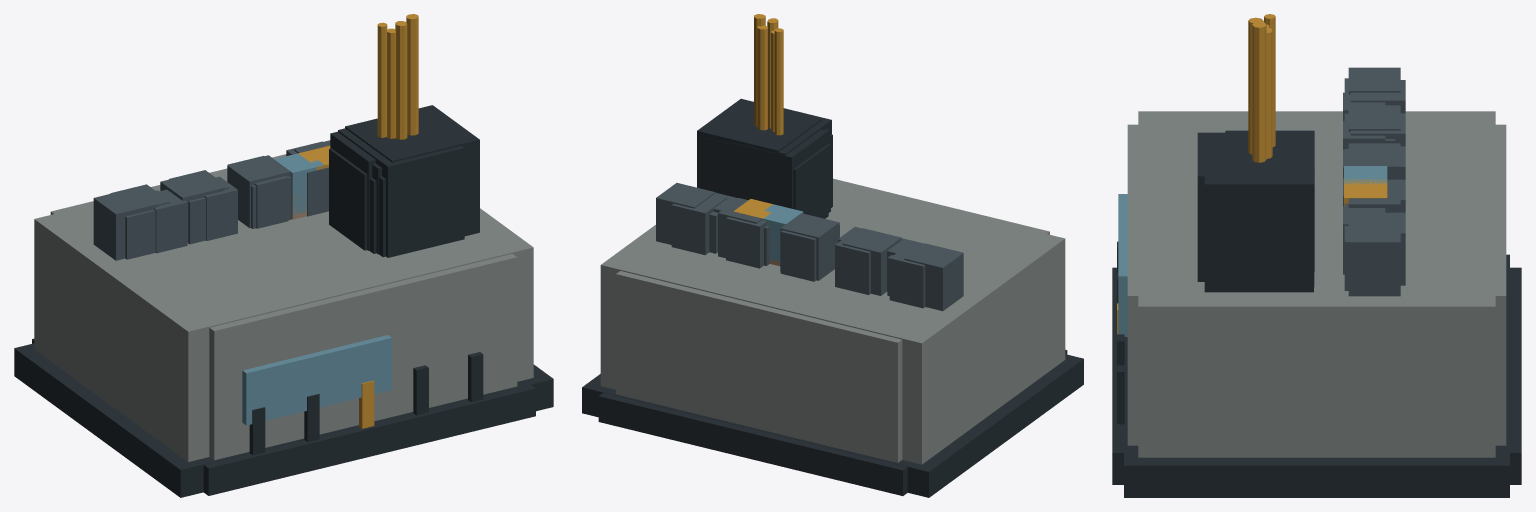
File: facilities.564cfe7ed80f.glb
The picture shows the model from 3 angles, left to right: view 1: azimuth 30°, elevation 25°; view 2: azimuth 150°, elevation 25°; view 3: azimuth 270°, elevation 25°; orthographic projection. The views are drawn at different scales.
Parts seen in each view (by area): view 1: security-centre__near, chip-fabrication__near, gas-generation__near, construction-shell__near, facility-large__near, headquarters-small__near, research-lab__near, training-centre__near, grid-substation__near, headquarters__near, headquarters-medium__near, training-centre__far (+8 smaller); view 2: security-centre__near, gas-generation__near, facility-large__near, construction-shell__near, headquarters-small__near, chip-fabrication__near, research-lab__near, grid-substation__near, training-centre__near, headquarters__near, headquarters-medium__near, grid-substation__far (+4 smaller); view 3: gas-generation__near, security-centre__near, research-lab__near, construction-shell__near, chip-fabrication__near, facility-large__near, headquarters-small__near, training-centre__near, headquarters__near, solar-field__near, headquarters-medium__near, grid-substation__near.
Part boxes in pixels (x1,y1,x2,y2): security-centre__near: (14, 14, 553, 497); chip-fabrication__near: (32, 38, 535, 495); gas-generation__near: (14, 31, 553, 497); construction-shell__near: (32, 21, 535, 493); facility-large__near: (203, 100, 535, 495); headquarters-small__near: (203, 89, 534, 494); research-lab__near: (14, 80, 552, 496); training-centre__near: (154, 22, 387, 246); grid-substation__near: (155, 38, 386, 251); headquarters__near: (125, 185, 291, 258); headquarters-medium__near: (125, 21, 405, 253); training-centre__far: (329, 148, 367, 235); security-centre__near: (582, 14, 1083, 497); gas-generation__near: (582, 29, 1083, 497); facility-large__near: (598, 92, 925, 495); construction-shell__near: (598, 18, 1067, 493); headquarters-small__near: (598, 81, 925, 494); chip-fabrication__near: (598, 34, 925, 495); research-lab__near: (582, 79, 1083, 497); grid-substation__near: (730, 43, 887, 289); training-centre__near: (713, 28, 924, 283); headquarters__near: (705, 40, 839, 232); headquarters-medium__near: (705, 25, 839, 237); grid-substation__far: (793, 156, 828, 217); gas-generation__near: (1124, 40, 1509, 497); security-centre__near: (1124, 21, 1509, 497); research-lab__near: (1124, 97, 1509, 497); construction-shell__near: (1112, 17, 1521, 484); chip-fabrication__near: (1112, 37, 1521, 484); facility-large__near: (1112, 109, 1521, 484); headquarters-small__near: (1112, 93, 1521, 484); training-centre__near: (1225, 14, 1385, 266); headquarters__near: (1266, 46, 1348, 290); solar-field__near: (1344, 166, 1387, 184); headquarters-medium__near: (1266, 27, 1348, 283); grid-substation__near: (1272, 32, 1348, 273).
Bounding box in the file's own units: 1.85 × 1.75 × 1.51.
